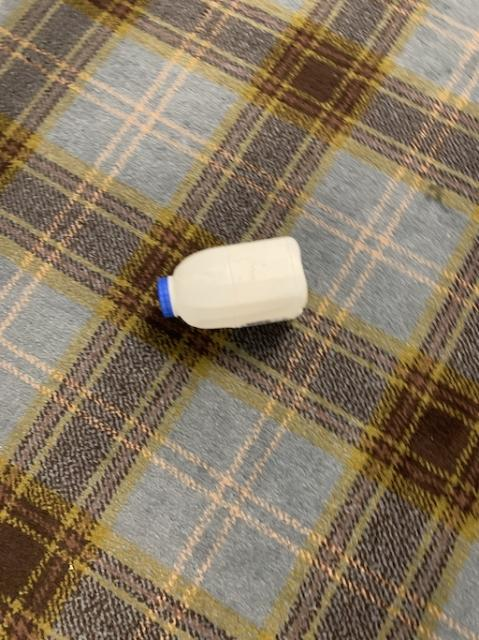plastic: (156, 236, 306, 327)
